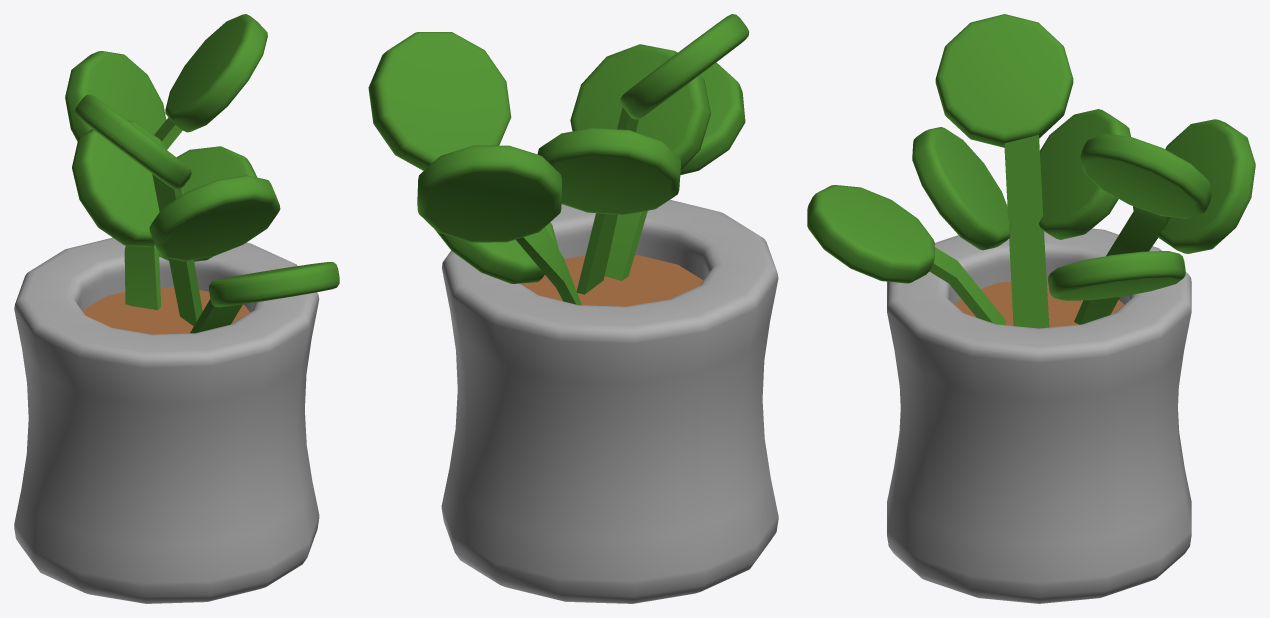
File: FlowerTable.FBX
The picture shows the model from 3 angles, left to right: view 1: azimuth 30°, elevation 25°; view 2: azimuth 150°, elevation 25°; view 3: azimuth 270°, elevation 25°; orthographic projection. The views are drawn at different scales.
Parts seen in each view (by area): view 1: FlowerTable; view 2: FlowerTable; view 3: FlowerTable.
Part boxes in pixels (x1,y1,x2,y2): FlowerTable: [14, 14, 339, 603]; FlowerTable: [368, 14, 778, 603]; FlowerTable: [807, 14, 1255, 603].
Bounding box in the file's own units: 4.65 × 7.52 × 6.24.
